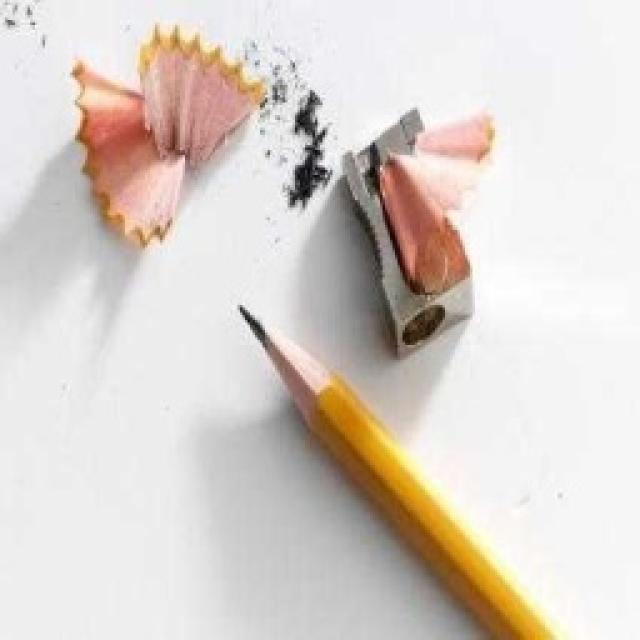pencil: (335, 100, 497, 358)
